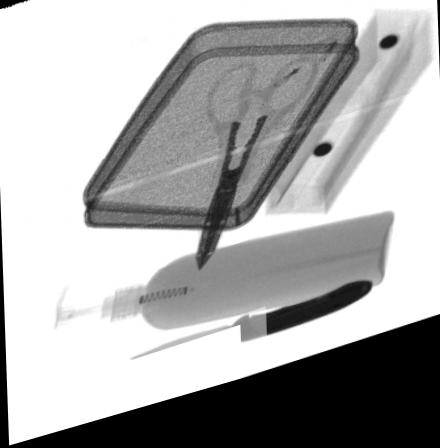Knife: (129, 300, 369, 366)
Scissors: (195, 71, 321, 282)
